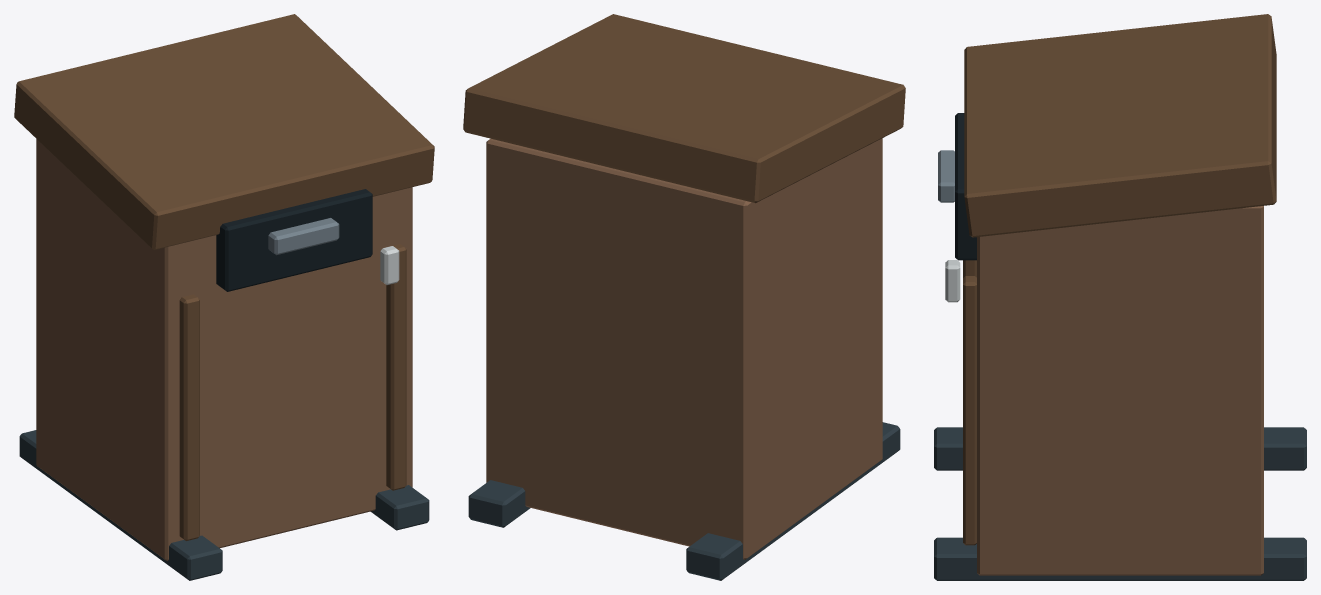
Rendered from b04_bear_resistant_trail_refuse_bin.glb.
The picture shows the model from 3 angles, left to right: view 1: azimuth 30°, elevation 25°; view 2: azimuth 150°, elevation 25°; view 3: azimuth 270°, elevation 25°; orthographic projection. The views are drawn at different scales.
Visible parts, largest first — view 1: b04_bear_resistant_trail_refuse_bin; view 2: b04_bear_resistant_trail_refuse_bin; view 3: b04_bear_resistant_trail_refuse_bin.
Part boxes in pixels (x1,y1,x2,y2): b04_bear_resistant_trail_refuse_bin: (14, 14, 434, 580); b04_bear_resistant_trail_refuse_bin: (463, 14, 905, 580); b04_bear_resistant_trail_refuse_bin: (934, 14, 1306, 580).
Size of the model in its own units: 0.95 by 1.27 by 1.
